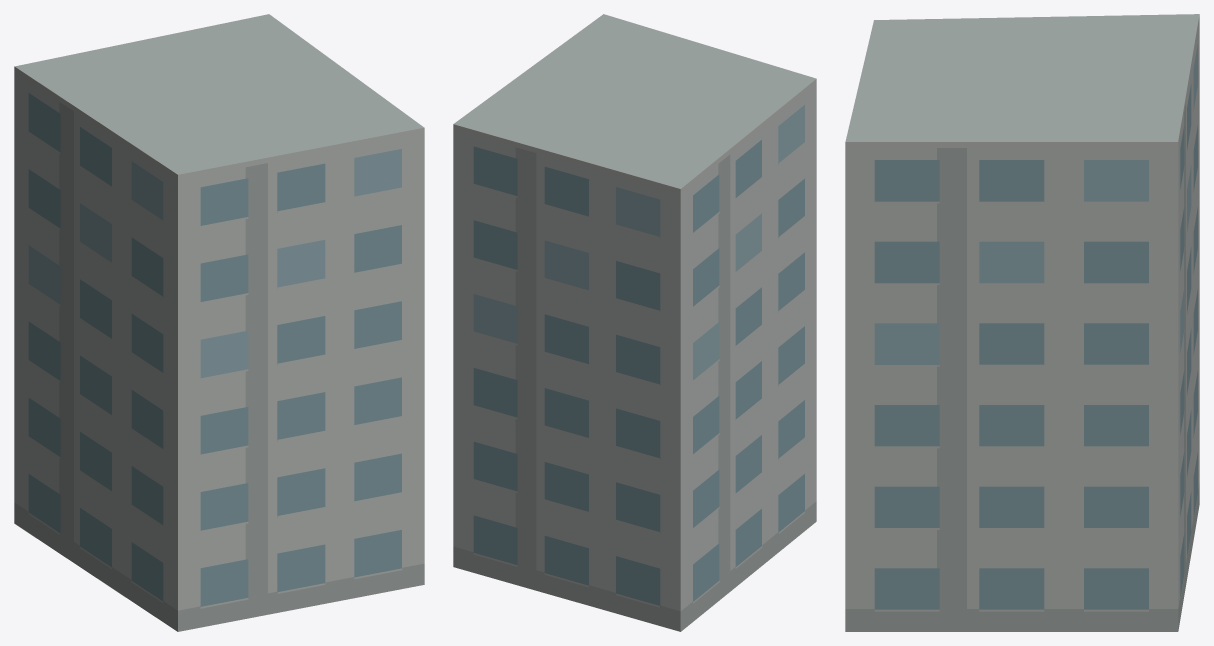
The model's file is survey-upis-32859142.glb.
3 renders of one model, left to right at view 1: azimuth 30°, elevation 25°; view 2: azimuth 150°, elevation 25°; view 3: azimuth 270°, elevation 25°, orthographic. The views are drawn at different scales.
Parts seen in each view (by area): view 1: survey-upis-32859142.tmp; view 2: survey-upis-32859142.tmp; view 3: survey-upis-32859142.tmp.
Part boxes in pixels (<box>): survey-upis-32859142.tmp: <box>14,14,424,631</box>; survey-upis-32859142.tmp: <box>453,14,816,631</box>; survey-upis-32859142.tmp: <box>845,14,1199,631</box>.
Size of the model in its own units: 11.51 by 20.5 by 13.45.
